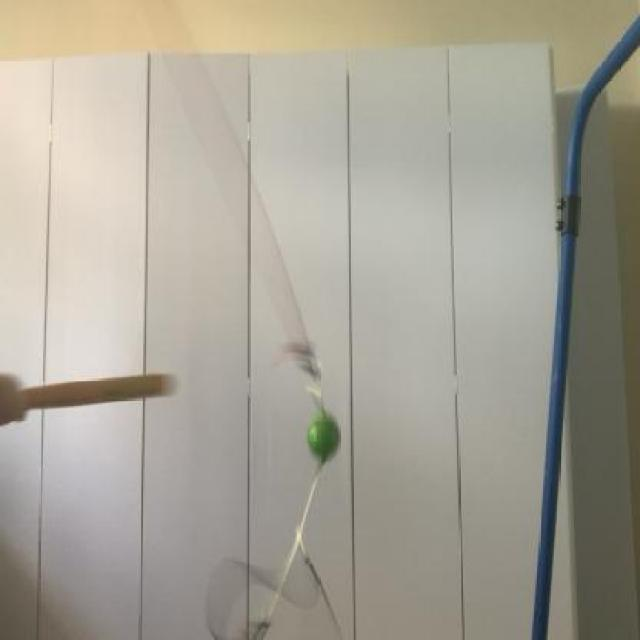baseball: (290, 406, 353, 477)
